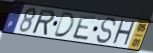8: (18, 7, 38, 33)
D: (52, 12, 76, 39)
E: (71, 13, 98, 42)
H: (110, 19, 137, 49)
R: (31, 8, 56, 37)
S: (95, 16, 118, 45)
